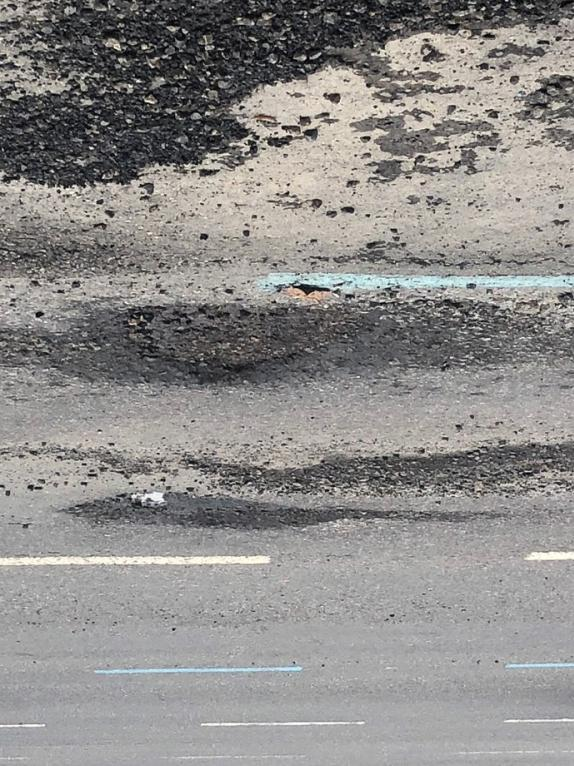pothole: (112, 290, 357, 396), (57, 481, 340, 540)
